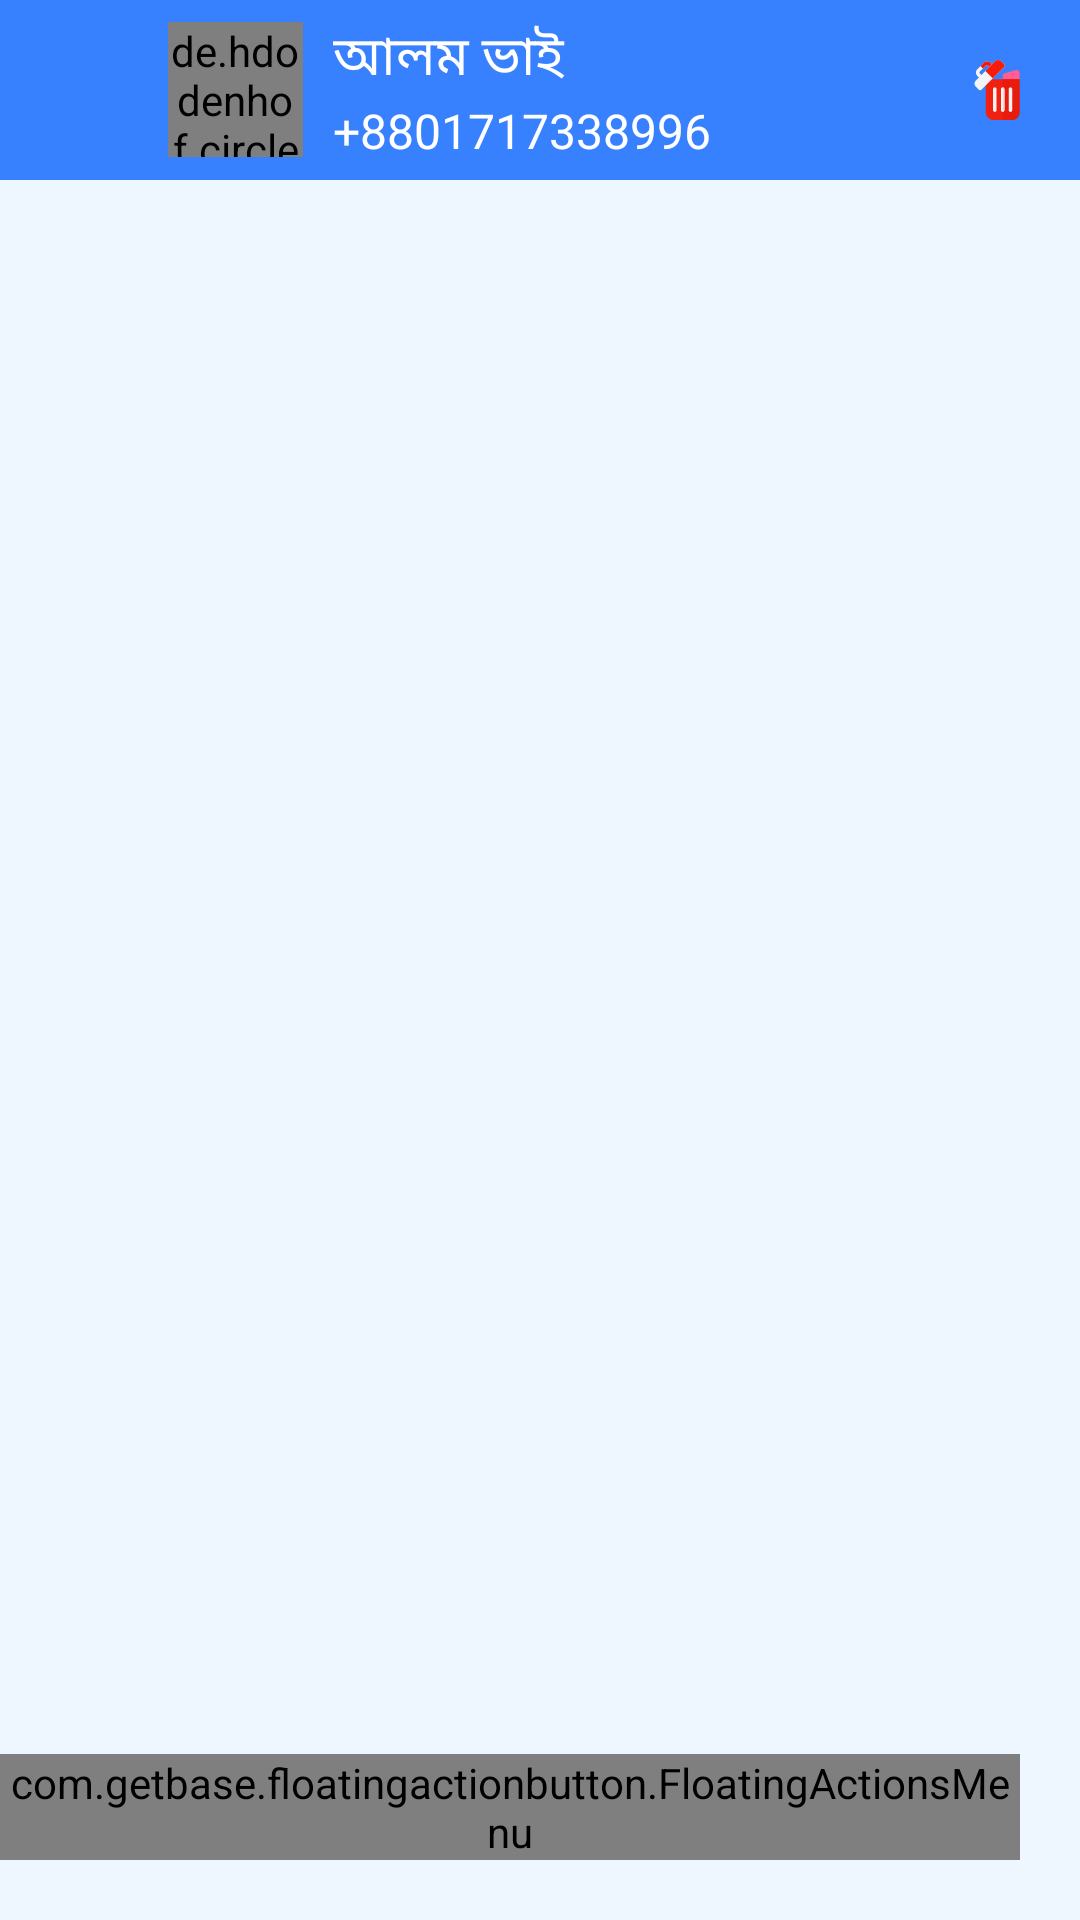

Icon click points for this 1080px x 1920px phone screenshot, format (x,y):
delete customer: (997,90)
